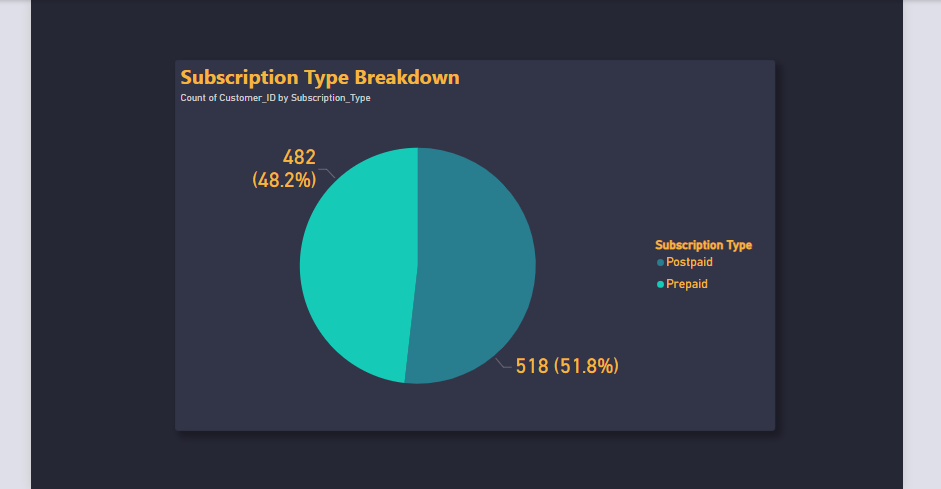

This screenshot's page, from the dashboard's own definition file:
{"tool":"powerbi","page":{"name":"Subscription Type Breakdown","canvas":[1280,720],"ordinal":1},"visuals":[{"type":"pieChart","title":"Subscription Type Breakdown","fields":{"Category":["Sheet1.Subscription_Type"],"Y":["CountNonNull(Sheet1.Customer_ID)"]},"box":[212.3,87.7,881.5,544.6],"z":0}]}

Visuals, with their boxes on the page's 1280x720 design canvas (x1, y1, x2, y2). These are canvas units, not pixel positions in the 941x489 screenshot, which may show the page scaled, cropped or inside an application window:
"Subscription Type Breakdown" pieChart: 212 88 1094 632
